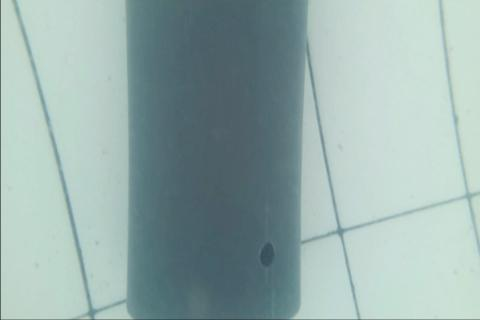kebocoran: (257, 240, 276, 268)
